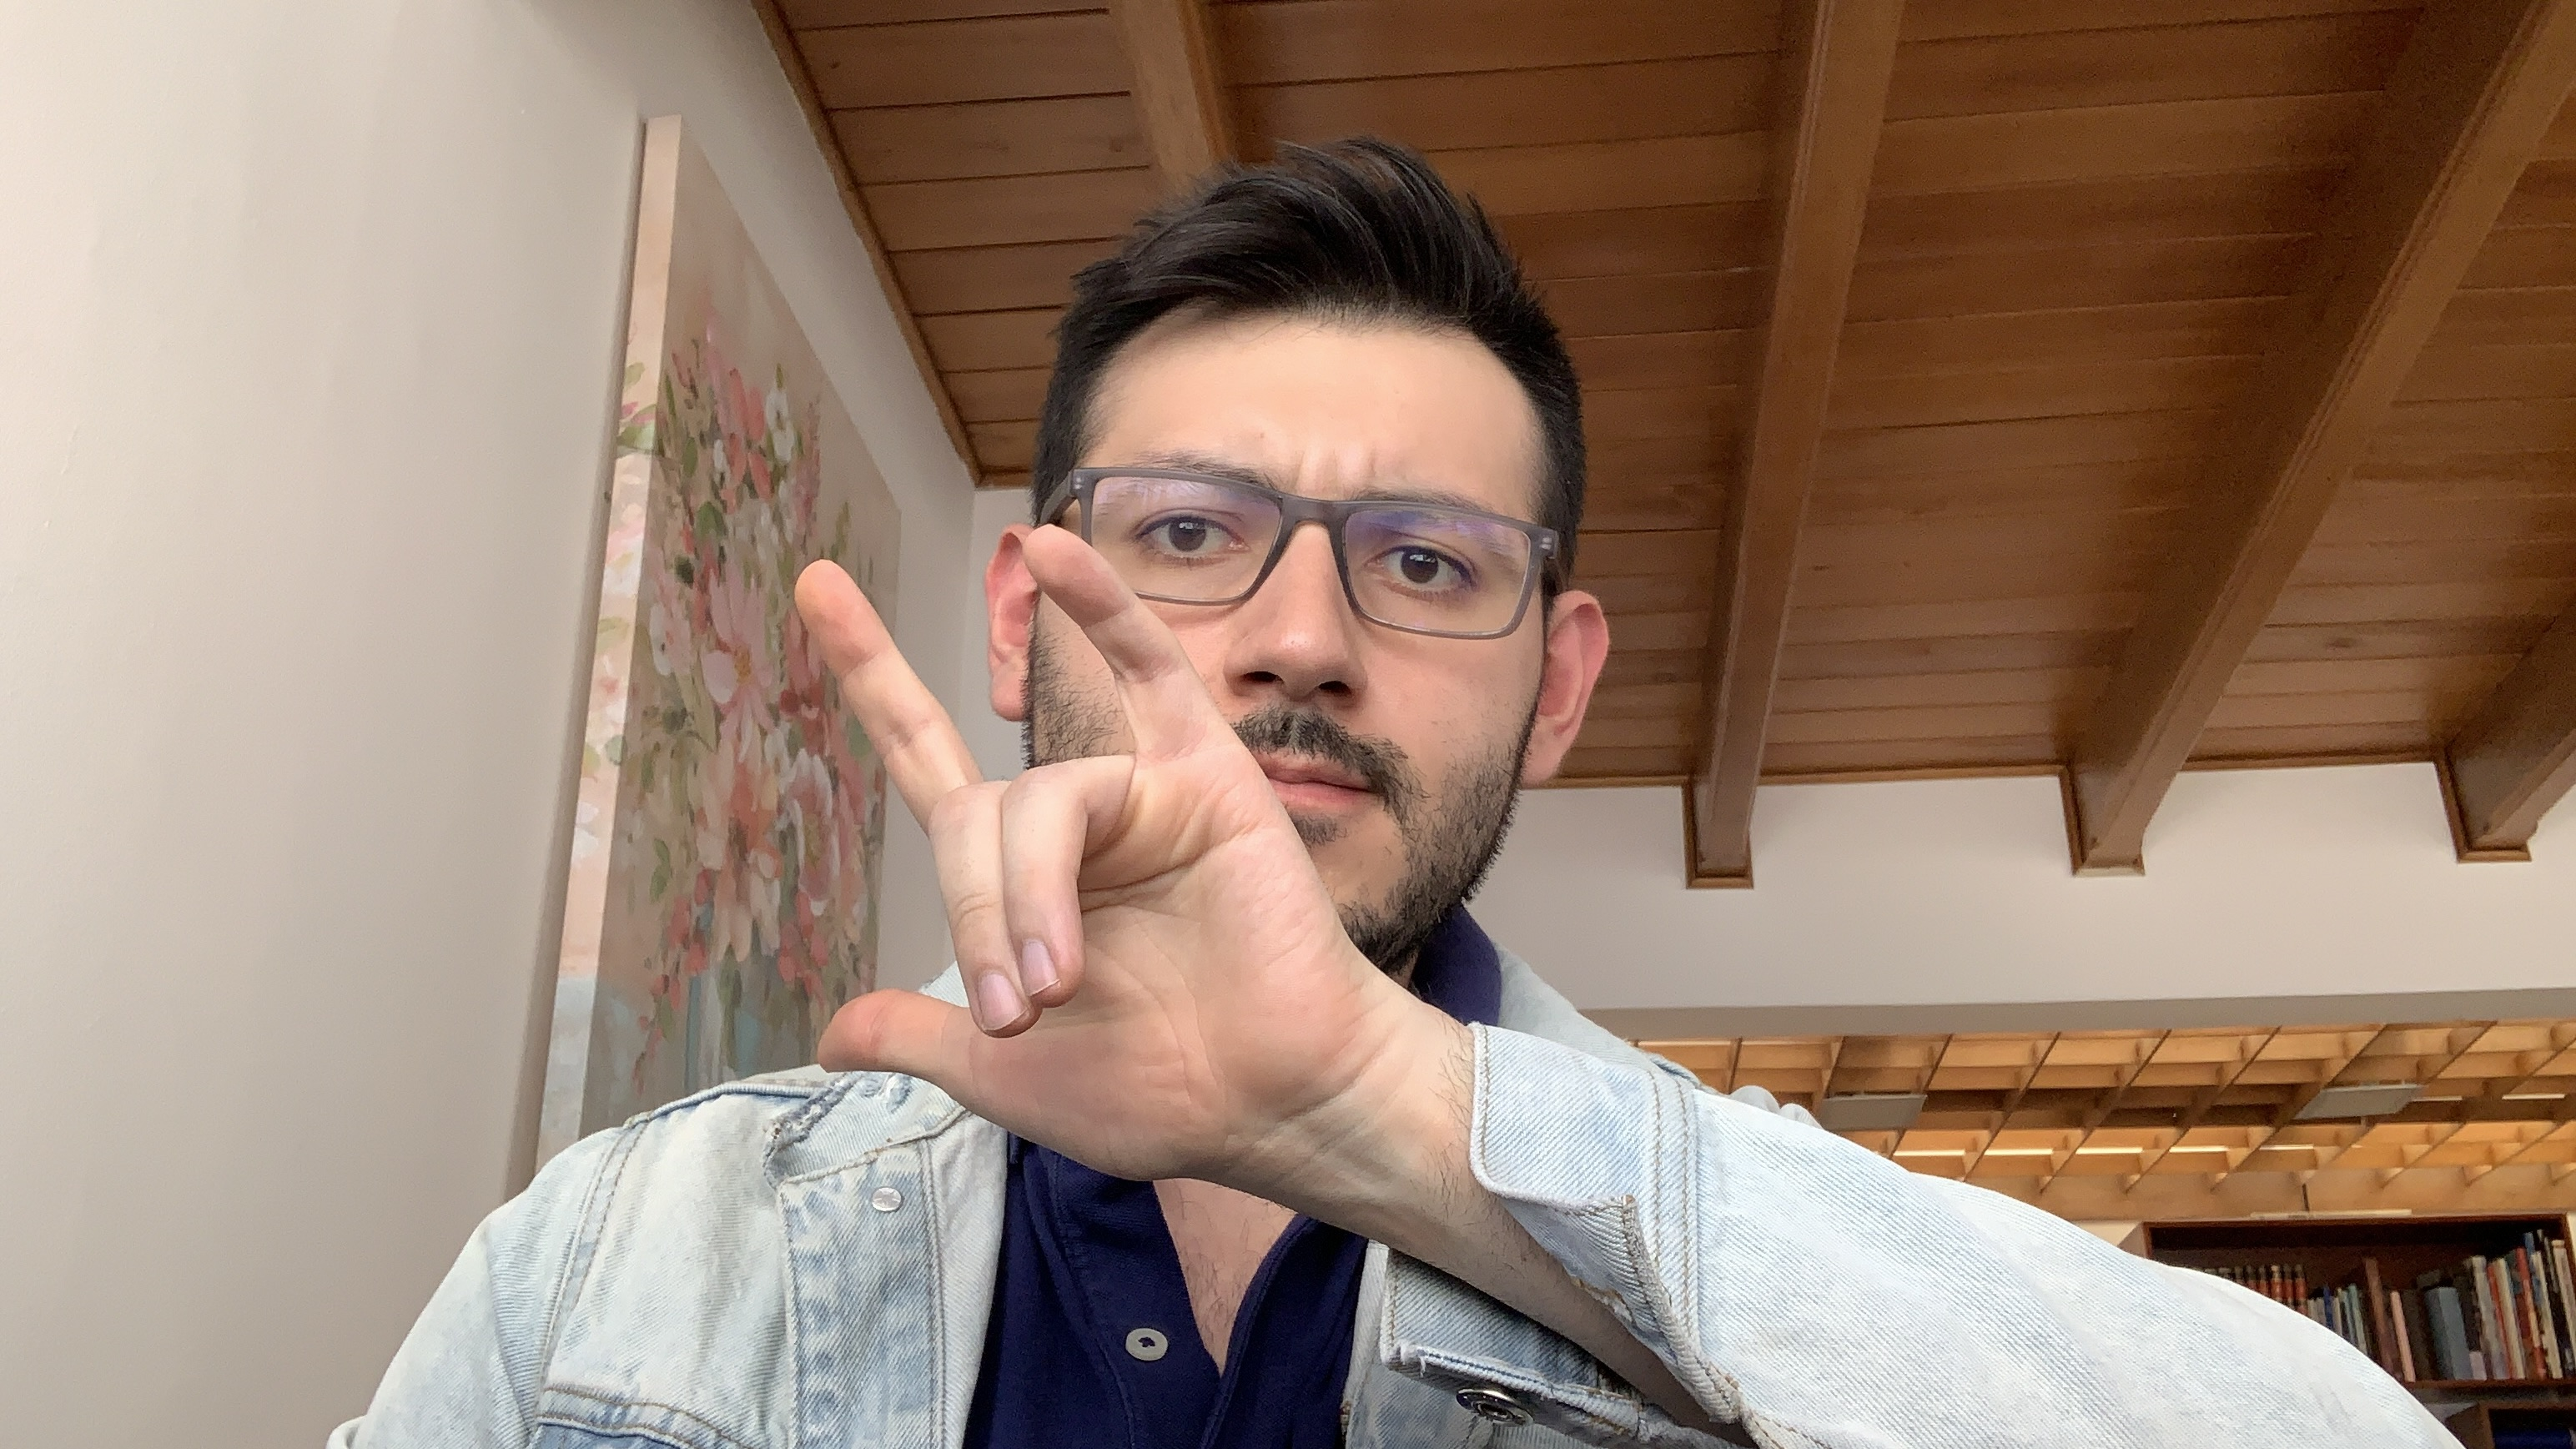I Love You: (786, 517, 1398, 1237)
